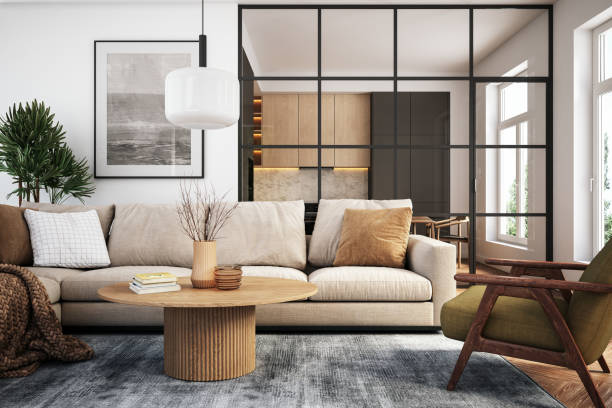chair: (439, 234, 612, 407)
flower vase: (177, 182, 235, 290)
large plant: (0, 97, 98, 205)
sofa: (0, 196, 457, 335)
table: (94, 274, 320, 384)
wall art: (90, 36, 206, 180)
